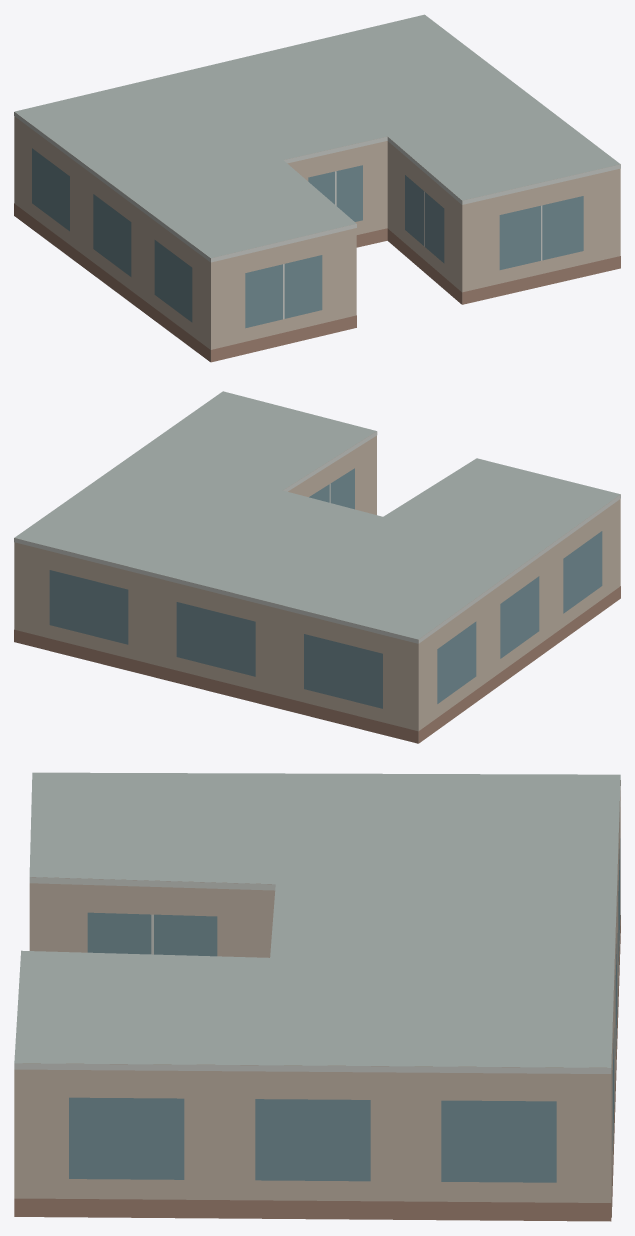
Rendered from survey-upis-32597936.glb.
3 views of the same model, one above another, from view 1: azimuth 30°, elevation 25°; view 2: azimuth 150°, elevation 25°; view 3: azimuth 270°, elevation 25° (orthographic). The views are drawn at different scales.
Parts seen in each view (by area): view 1: survey-upis-32597936.tmp; view 2: survey-upis-32597936.tmp; view 3: survey-upis-32597936.tmp.
Part boxes in pixels (<box>): survey-upis-32597936.tmp: <box>14,14,620,362</box>; survey-upis-32597936.tmp: <box>14,391,620,743</box>; survey-upis-32597936.tmp: <box>14,772,620,1221</box>.
Size of the model in its own units: 12.59 by 3.05 by 10.93.
